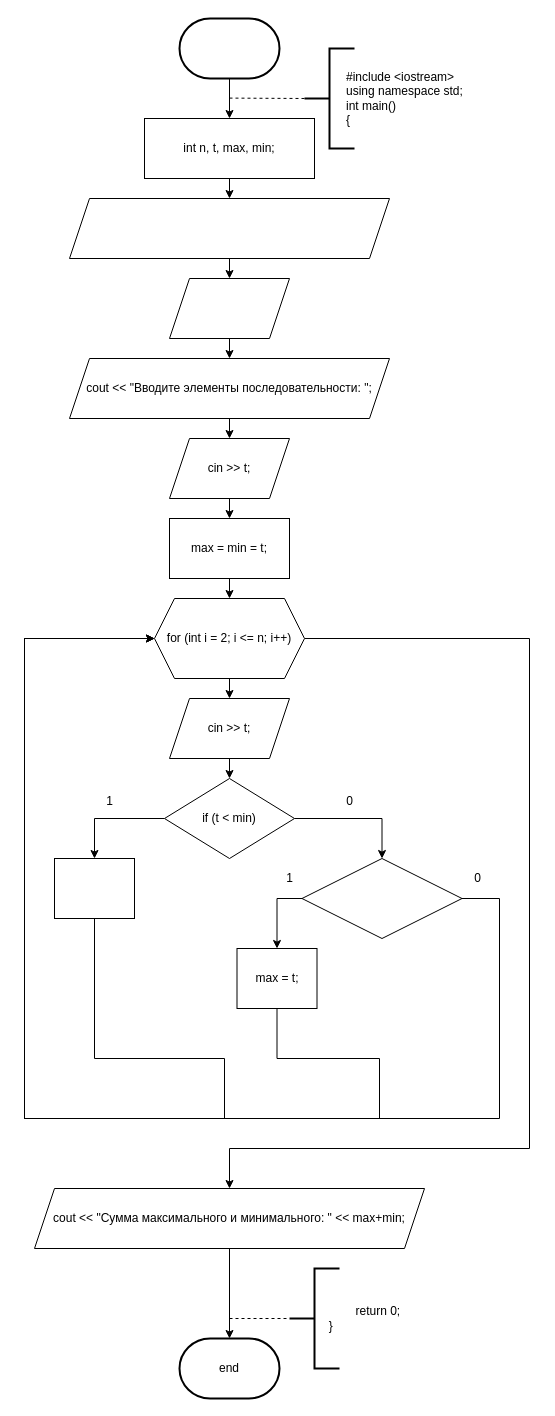
Some shapes in this 555 by 1416 pixel diagram are drawn without their labels. The shapes that lost their labels are listed below. From the top down, each one's centre as x and y in pixels, then its label:
(229,48): start
(229,228): cout << "Введите длину последовательности: ";
(229,308): cin >> n;
(94,888): min = t;
(381,898): else if (t > max)
